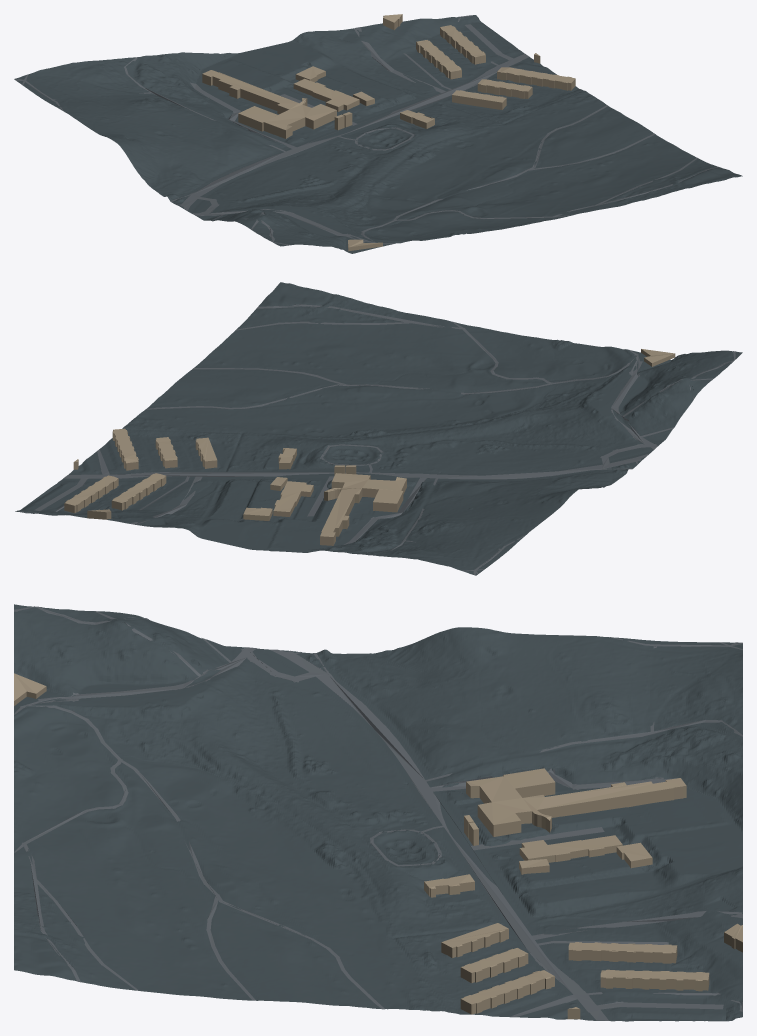
Rendered from epsg26910-1434-10870.lod0.glb.
The picture shows the model from 3 angles, top to bottom: view 1: azimuth 30°, elevation 25°; view 2: azimuth 150°, elevation 25°; view 3: azimuth 270°, elevation 25°; orthographic projection. The views are drawn at different scales.
Visible parts, largest first — view 1: epsg26910-1434-10870-lod0; view 2: epsg26910-1434-10870-lod0; view 3: epsg26910-1434-10870-lod0.
Part boxes in pixels (bbox=[...]): epsg26910-1434-10870-lod0: bbox=[14, 14, 742, 253]; epsg26910-1434-10870-lod0: bbox=[15, 282, 742, 575]; epsg26910-1434-10870-lod0: bbox=[14, 604, 742, 1021].
Size of the model in its own units: 384 by 63.44 by 384.
